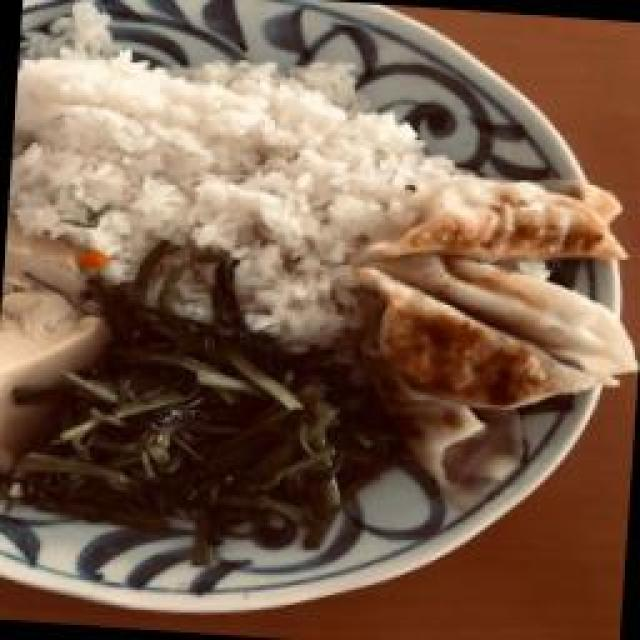Wet Waste: (5, 53, 395, 275), (380, 180, 602, 398), (88, 328, 332, 520)
